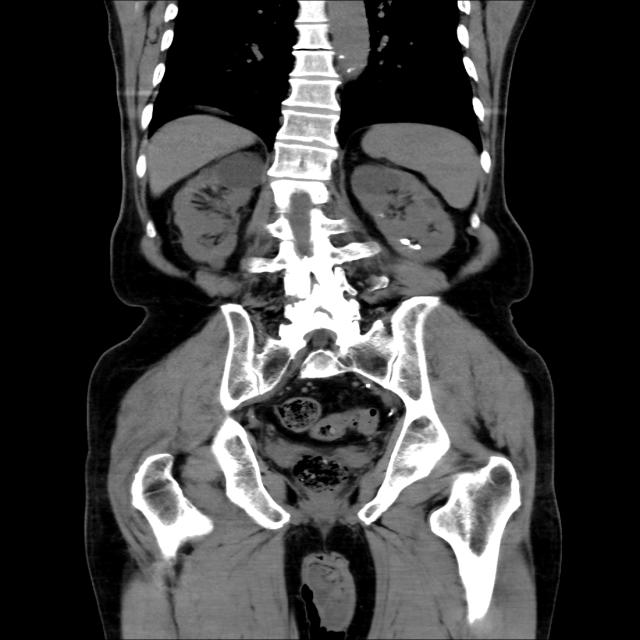kidneystone: (400, 238, 422, 249)
